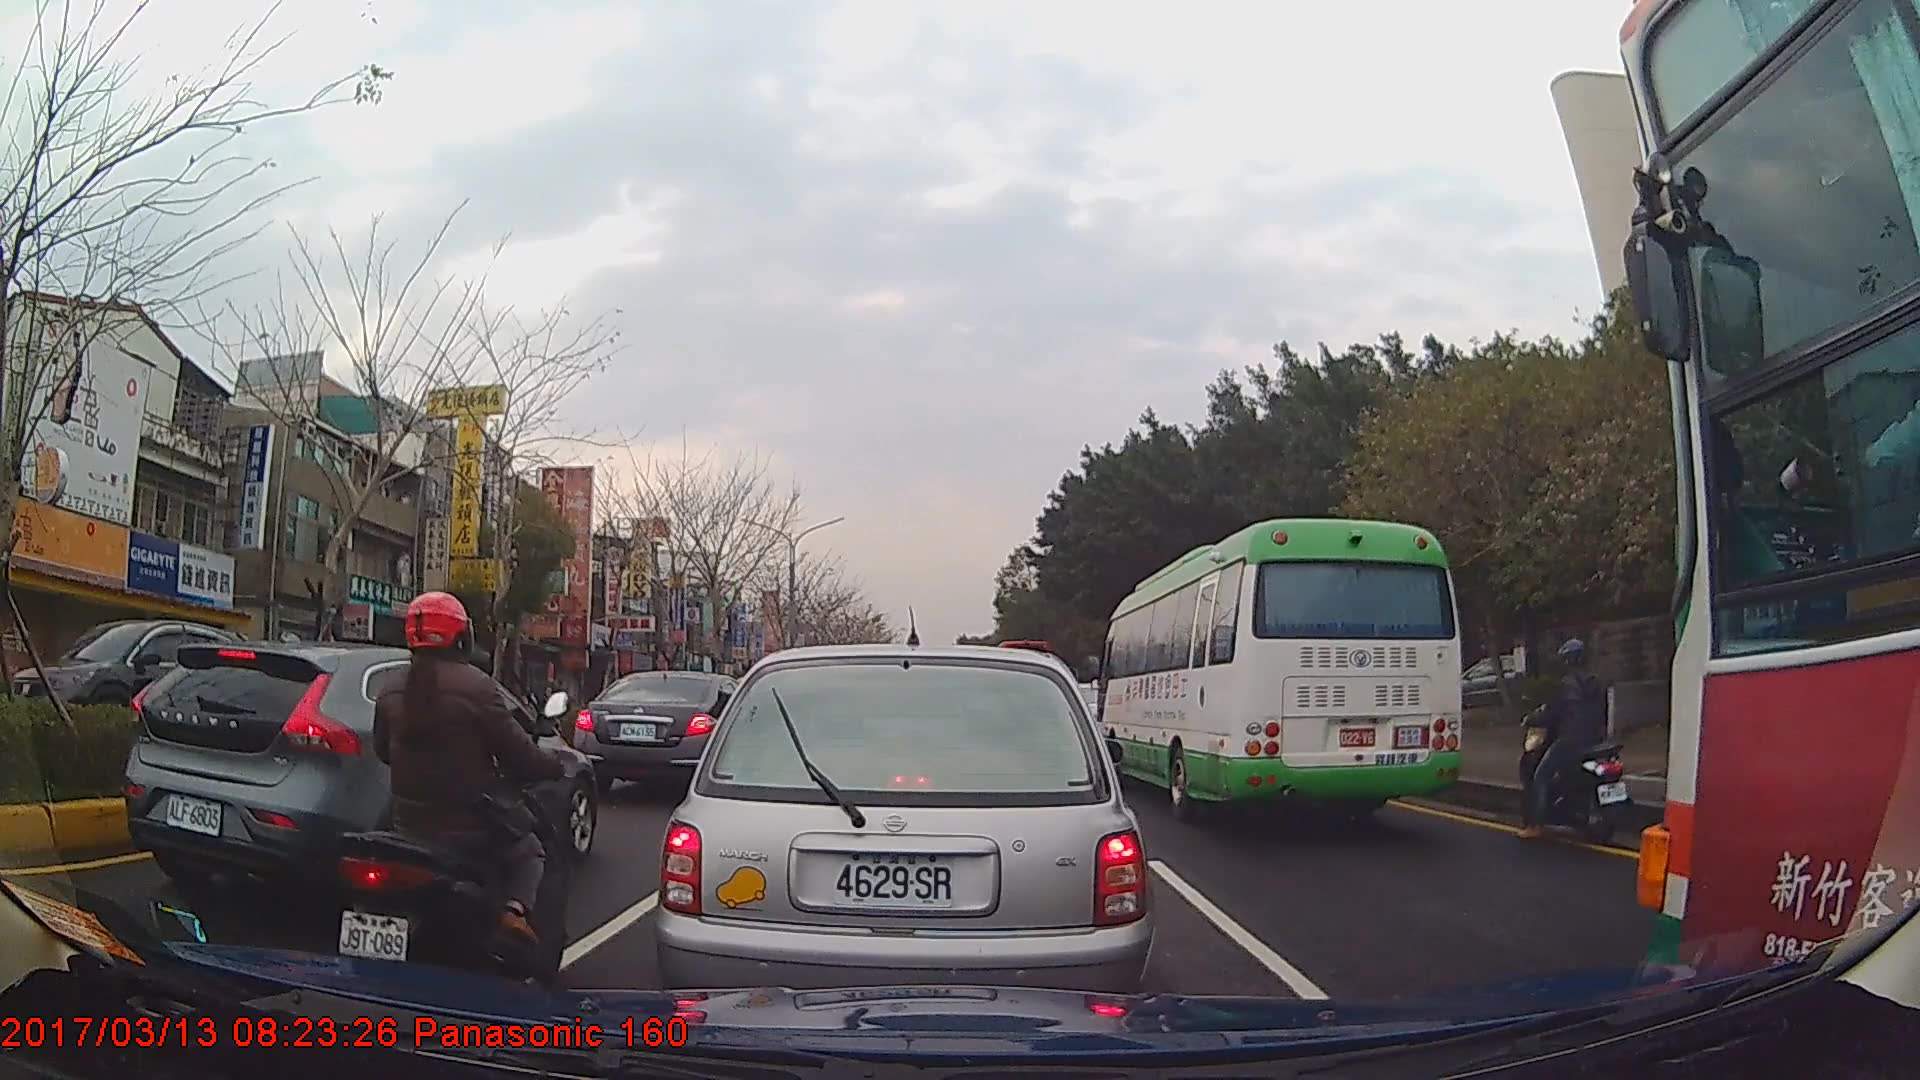rider: (346, 586, 564, 1007), (1515, 636, 1628, 844)
vehicle: (654, 639, 1158, 1040), (123, 644, 597, 919), (1101, 517, 1463, 819), (5, 615, 268, 741), (574, 668, 757, 799)
